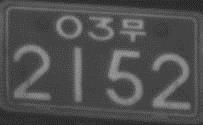0: (54, 14, 82, 40)
1: (61, 46, 94, 104)
2: (151, 51, 192, 111), (12, 43, 52, 100)
3: (86, 14, 115, 41)
5: (104, 47, 143, 106)
무: (119, 17, 146, 42)
